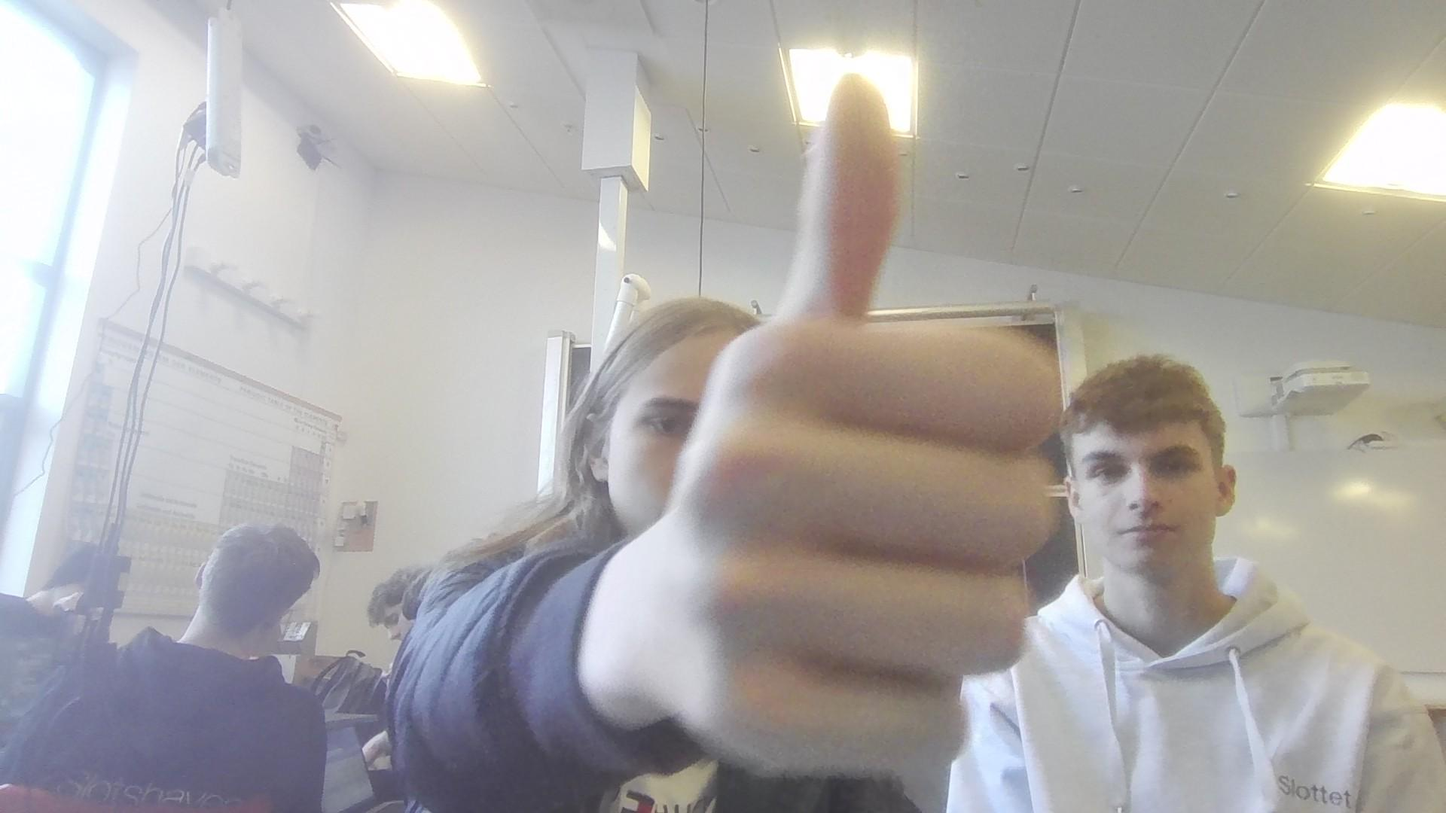thumbs up: (592, 65, 1060, 784)
